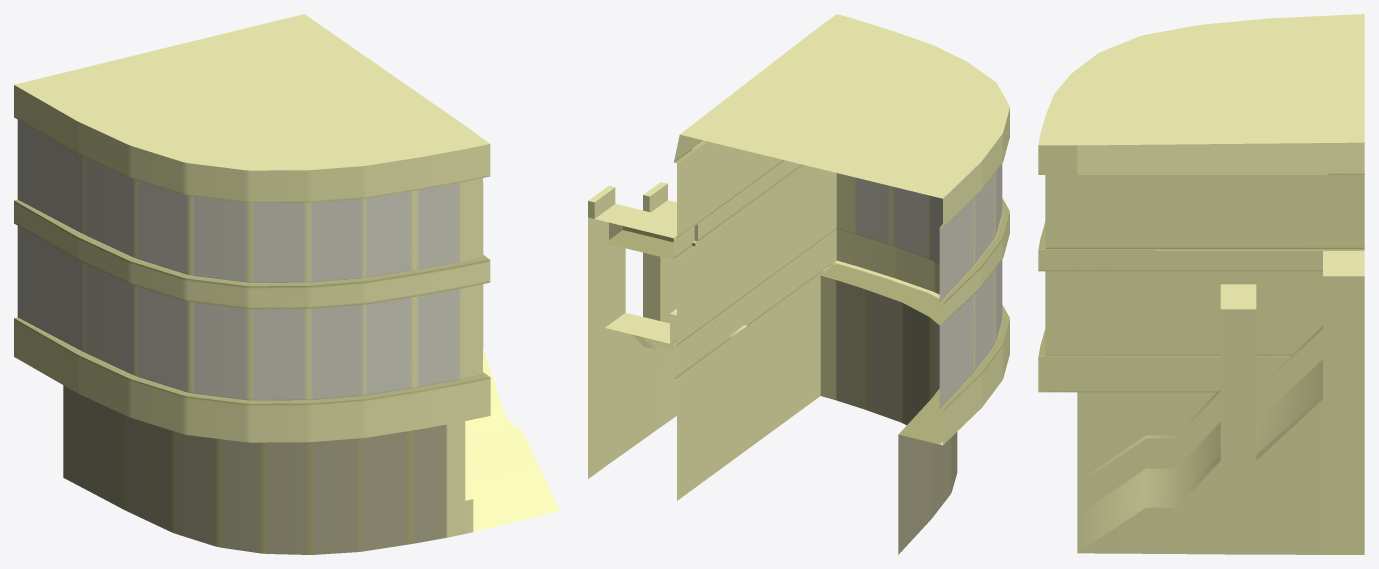
The model's file is Boss_A.fbx.
3 views of the same model, side by side, from view 1: azimuth 30°, elevation 25°; view 2: azimuth 150°, elevation 25°; view 3: azimuth 270°, elevation 25° (orthographic). The views are drawn at different scales.
Visible parts, largest first — view 1: Boss_A_m; view 2: Boss_A_m; view 3: Boss_A_m.
Part boxes in pixels (<box>): Boss_A_m: <box>14,14,559,554</box>; Boss_A_m: <box>588,14,1009,554</box>; Boss_A_m: <box>1038,14,1364,554</box>.
Size of the model in its own units: 1291 by 1276 by 1027.
